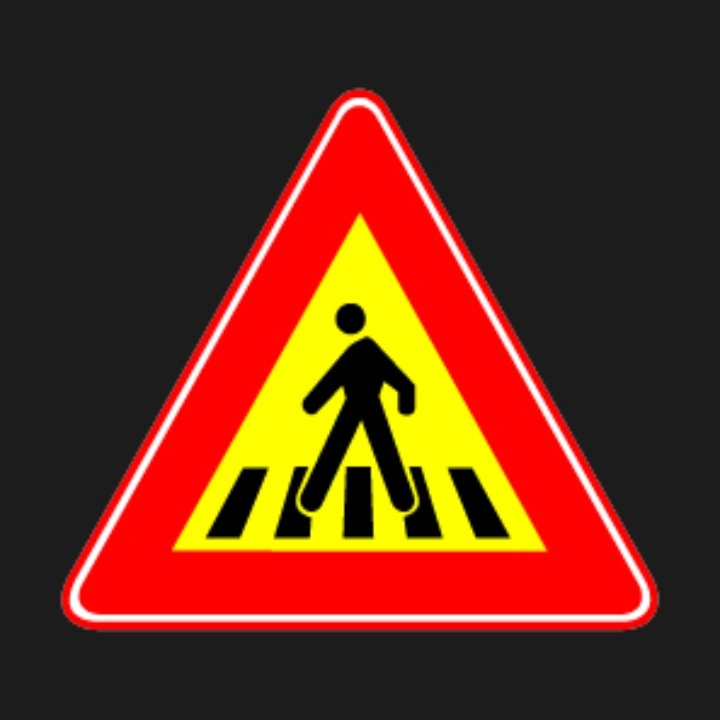cross: (277, 295, 434, 524)
